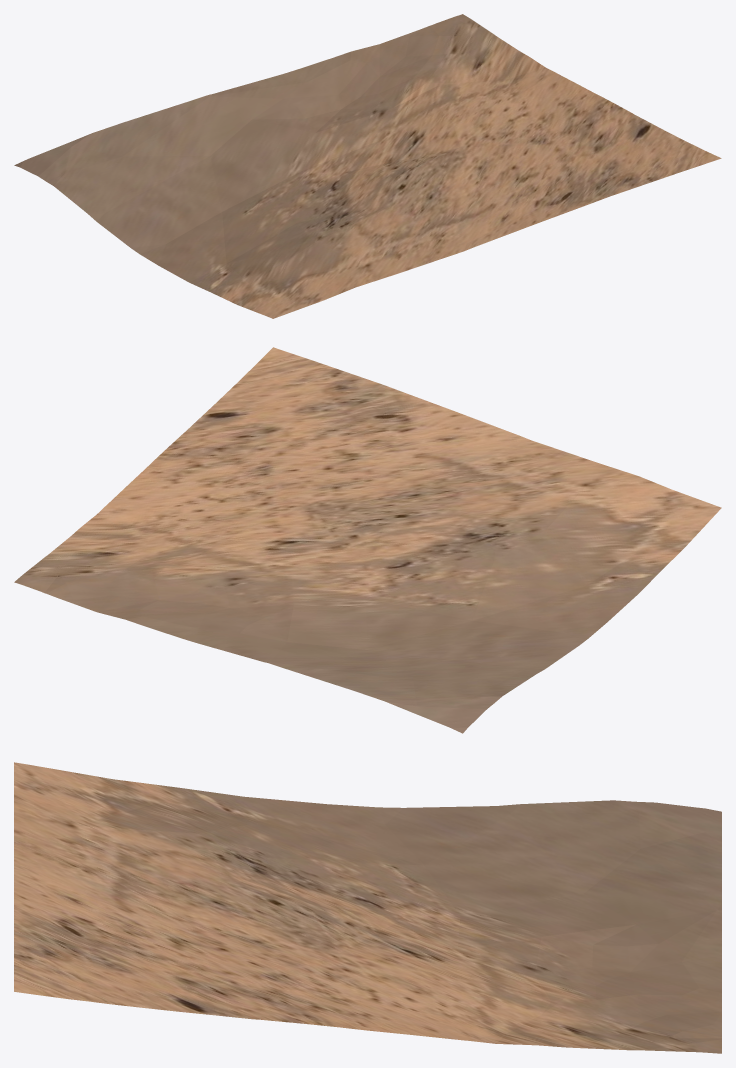
The picture shows the model from 3 angles, top to bottom: view 1: azimuth 30°, elevation 25°; view 2: azimuth 150°, elevation 25°; view 3: azimuth 270°, elevation 25°; orthographic projection. The views are drawn at different scales.
Size of the model in its own units: 1.04 by 0.194 by 1.04.
2 materials, 2 textured.
